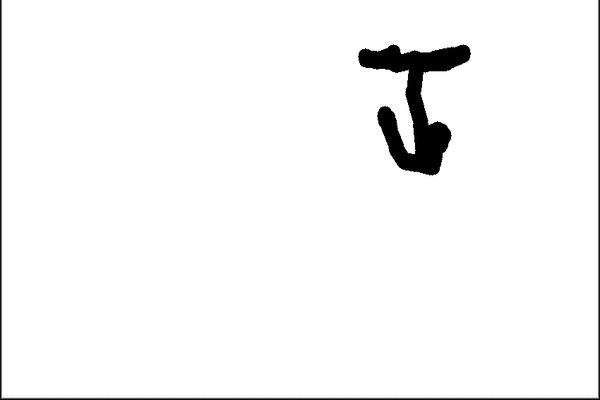J: (350, 35, 477, 182)
